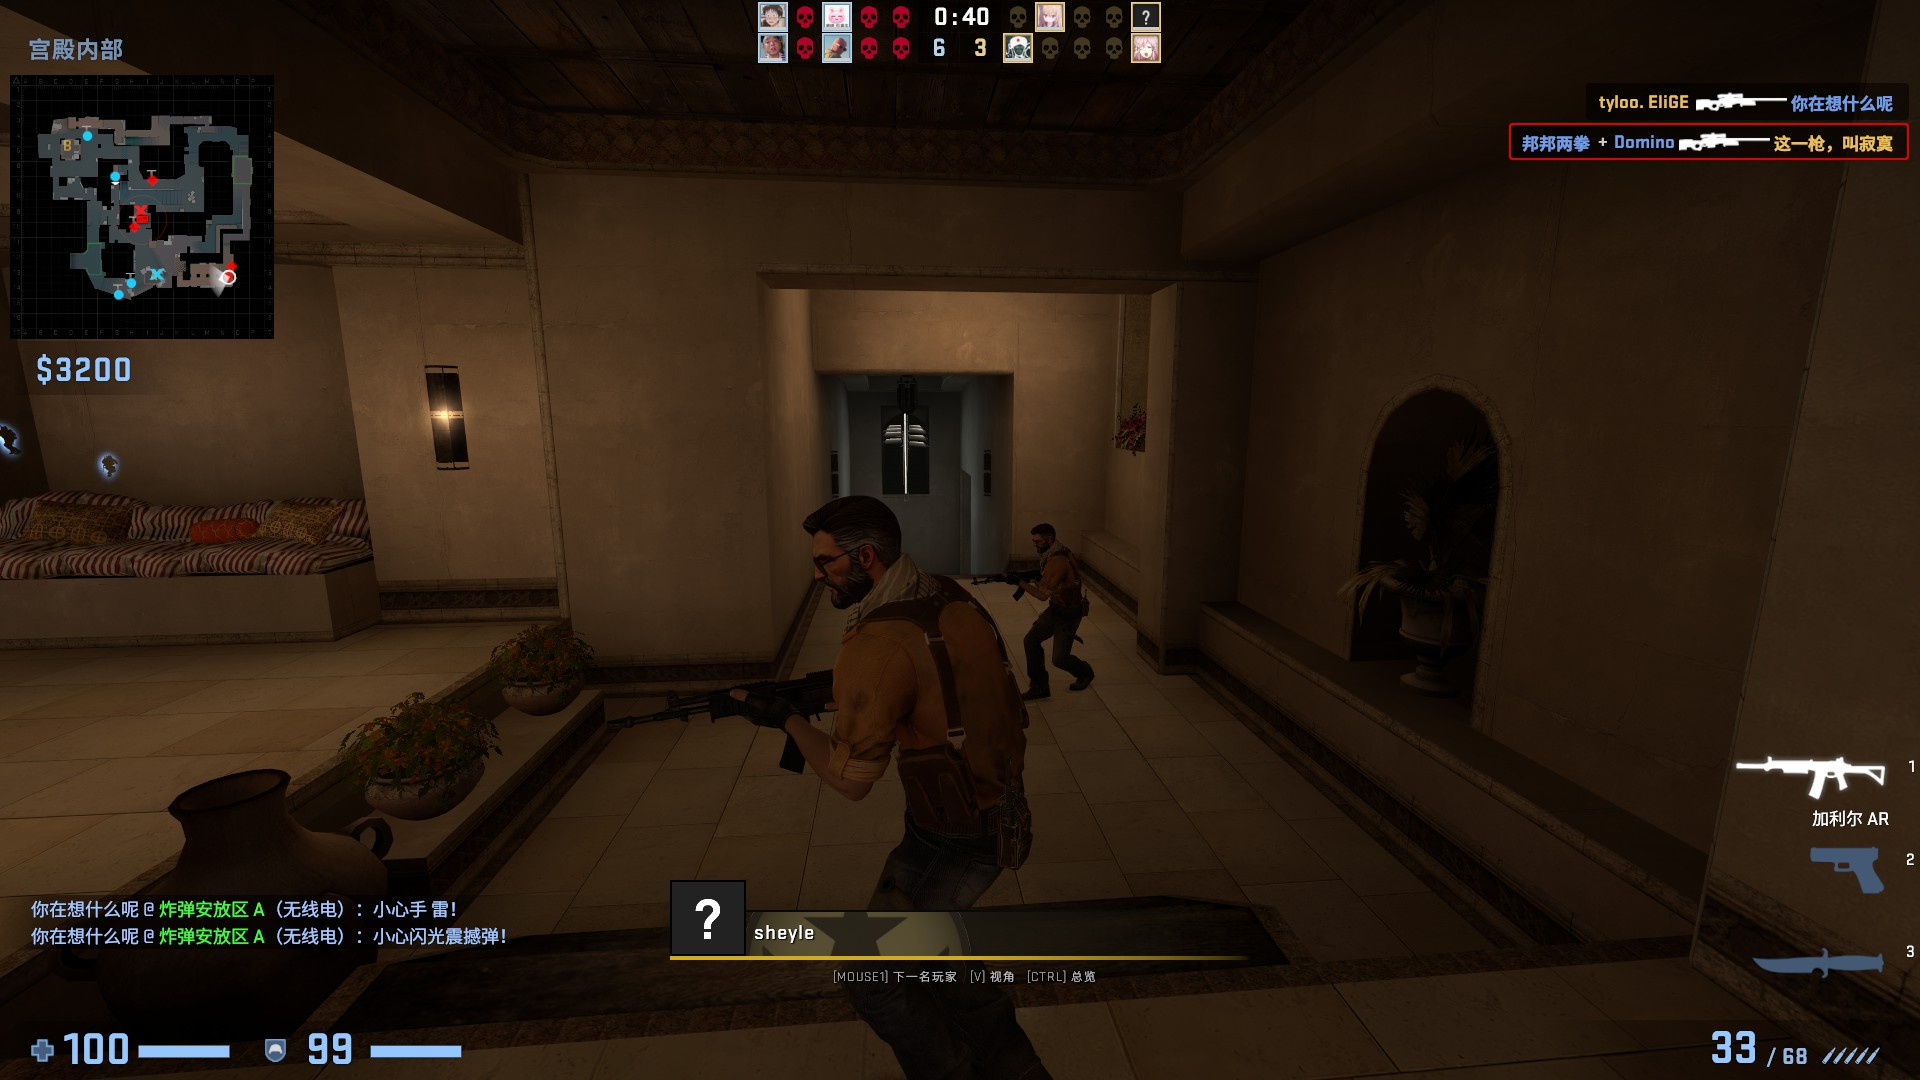head: (799, 491, 905, 602), (1029, 522, 1059, 553)
